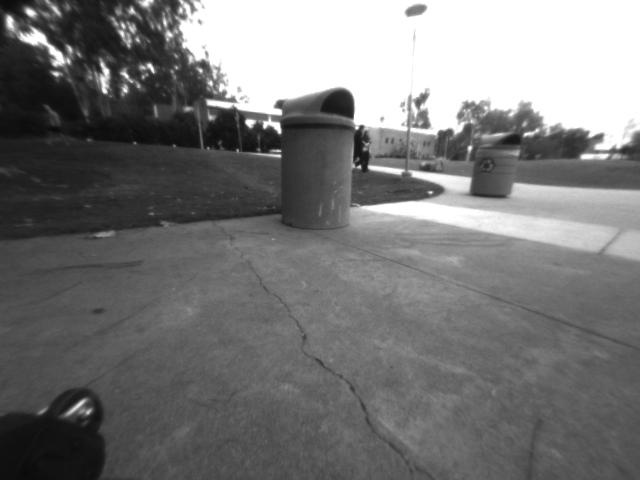trashcan: (273, 85, 357, 234)
